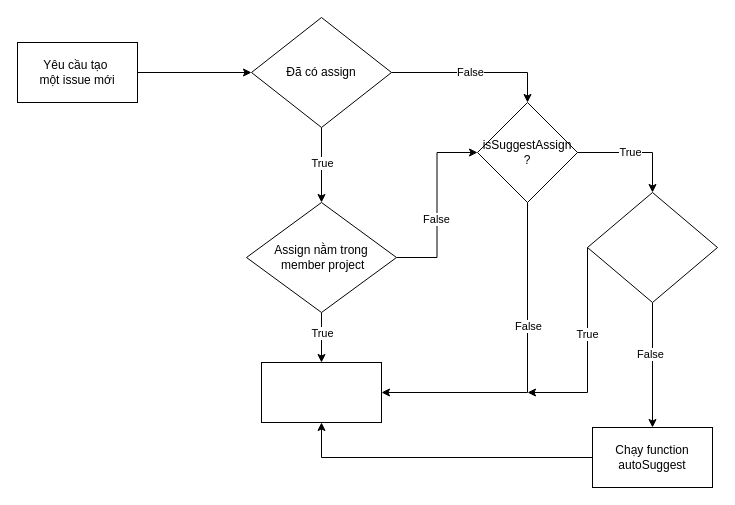
The diagram is 735 pixels wide and 505 high, and some of its shapes have lost their labels. The centre of each missing label's shape, as x and y in pixels:
"Có defaultAssign? (Config member nào sẽ tự động nhận task )" belongs at point (652, 247).
"Tạo issue" belongs at point (321, 392).
